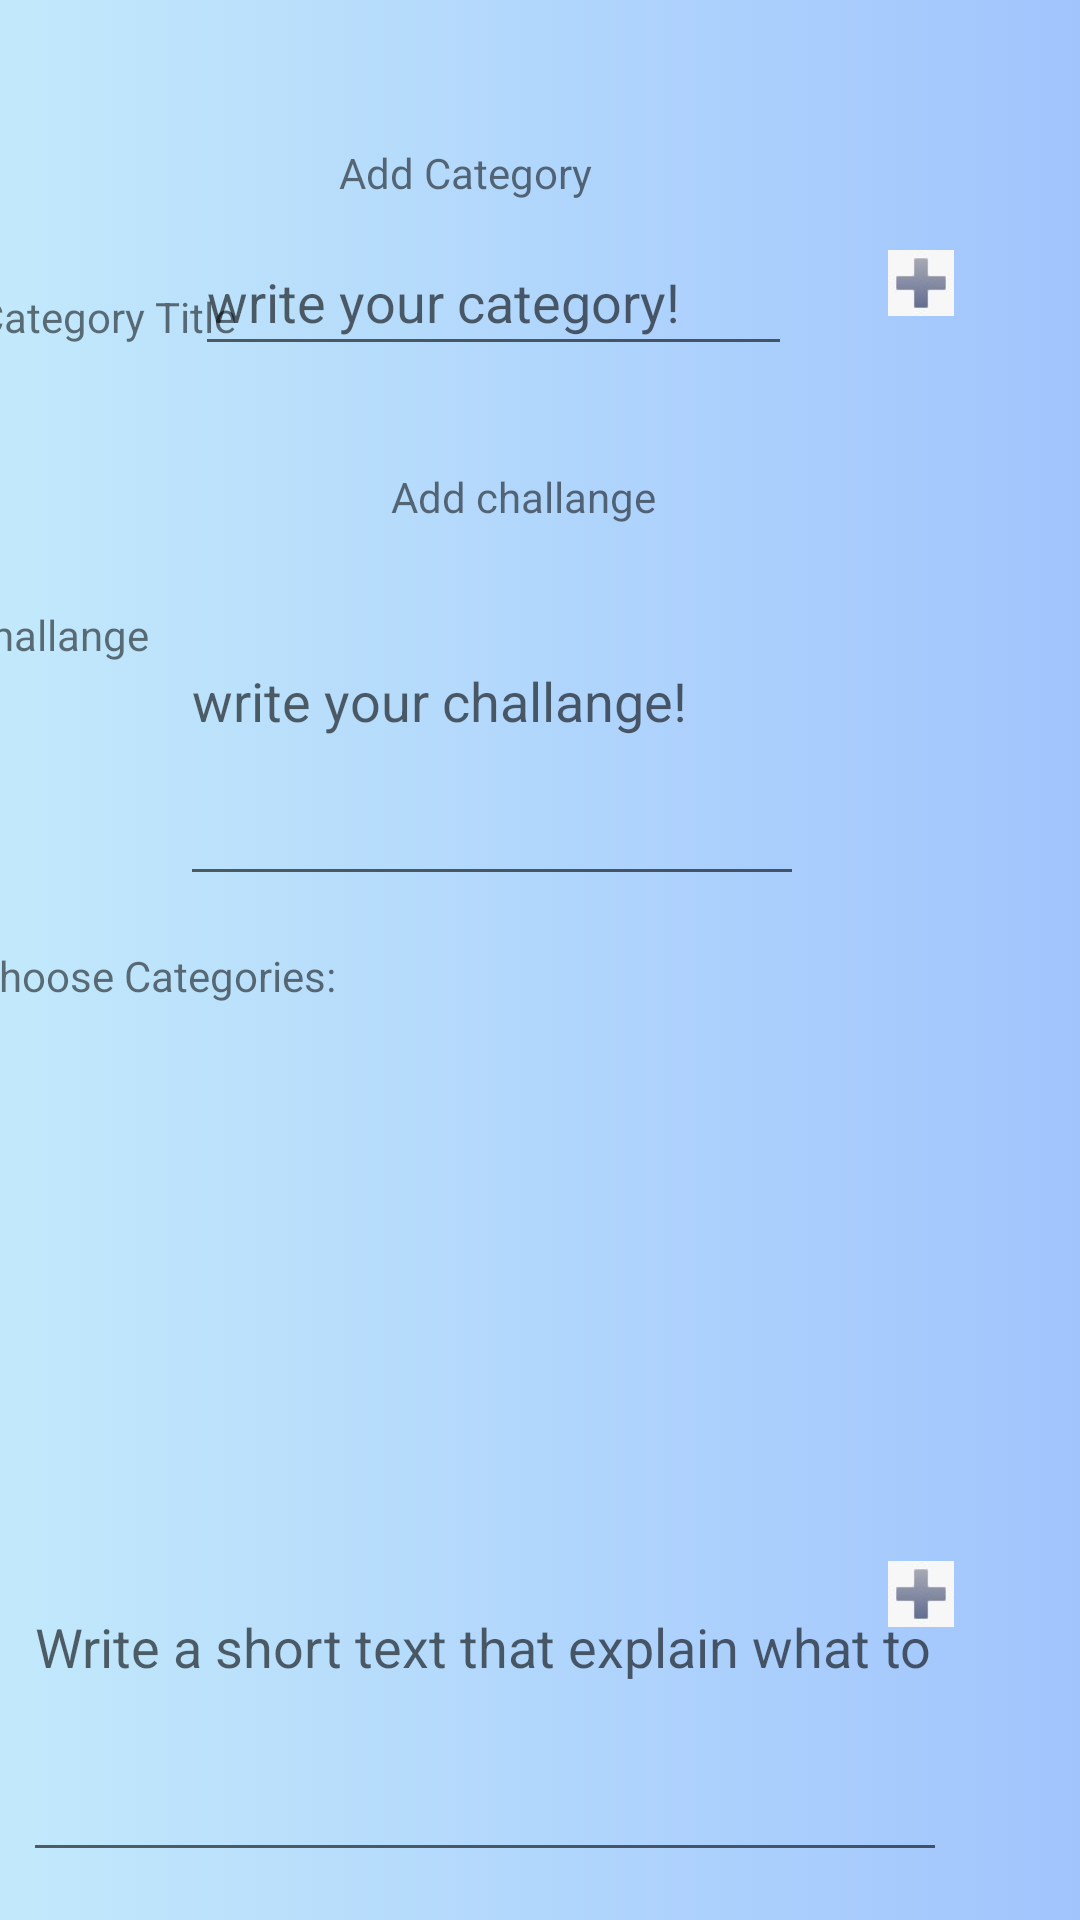

Named icons in this screenshot (1080 x 1920) and their bounding boxes, (x1, y1, x2, y2):
plus: (888, 250, 954, 316), (888, 1561, 954, 1627)
